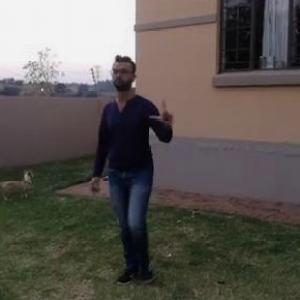land_hand: (147, 94, 178, 130)
